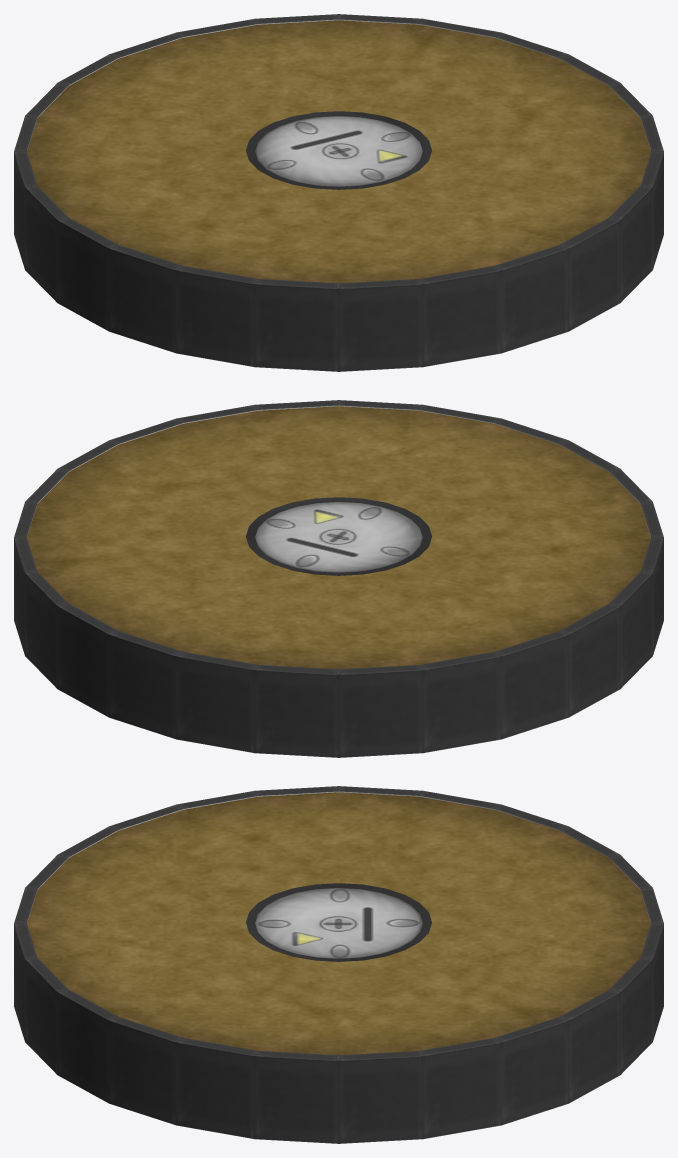
Rendered from Mk85HeatShield.FBX.
3 views of the same model, one above another, from view 1: azimuth 30°, elevation 25°; view 2: azimuth 150°, elevation 25°; view 3: azimuth 270°, elevation 25° (orthographic).
Parts seen in each view (by area): view 1: Cylinder003, ShroudOuter, CrewHatch003, IsoGrid; view 2: Cylinder003, ShroudOuter, CrewHatch003, IsoGrid; view 3: Cylinder003, ShroudOuter, CrewHatch003, IsoGrid.
Part boxes in pixels (x1,y1,x2,y2): Cylinder003: (27, 20, 650, 283); ShroudOuter: (14, 14, 663, 371); CrewHatch003: (246, 111, 431, 189); IsoGrid: (27, 19, 650, 150); Cylinder003: (27, 406, 650, 669); ShroudOuter: (14, 400, 663, 757); CrewHatch003: (246, 497, 431, 575); IsoGrid: (27, 405, 650, 536); Cylinder003: (27, 792, 650, 1055); ShroudOuter: (14, 786, 663, 1143); CrewHatch003: (246, 883, 431, 961); IsoGrid: (27, 791, 650, 922).
Size of what is drawn, in the model's own units: 1.91 by 0.2729 by 1.91.
